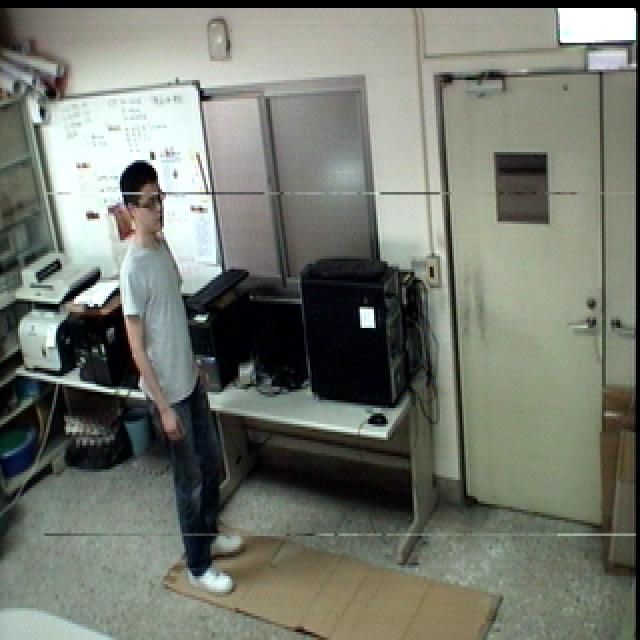stand: (104, 149, 255, 607)
